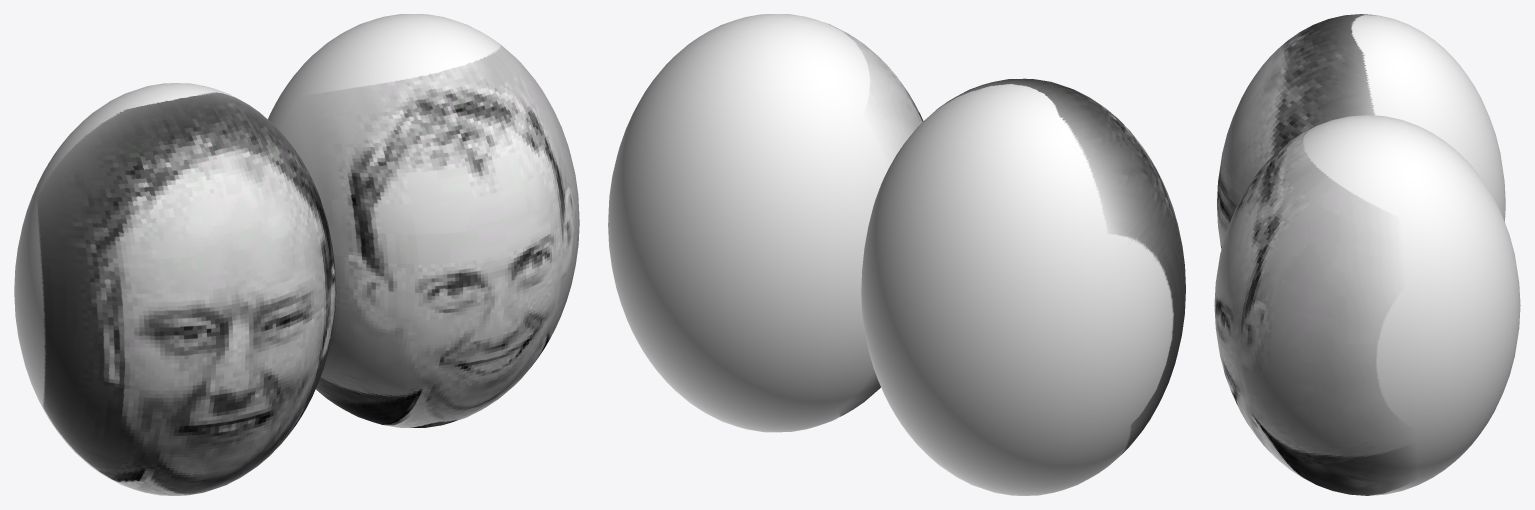
The model's file is scientists.fbx.
3 renders of one model, left to right at view 1: azimuth 30°, elevation 25°; view 2: azimuth 150°, elevation 25°; view 3: azimuth 270°, elevation 25°, orthographic. The views are drawn at different scales.
Parts seen in each view (by area): view 1: node_id6 (×2); view 2: node_id6 (×2); view 3: node_id6 (×2).
Part boxes in pixels (x1,y1,x2,y2): node_id6 (×2): (14,14,579,495); node_id6 (×2): (608,14,1185,495); node_id6 (×2): (1214,14,1520,495).
Size of the model in its own units: 0.512 by 0.3704 by 0.2811.
Materials: 2 (2 with a texture image).
